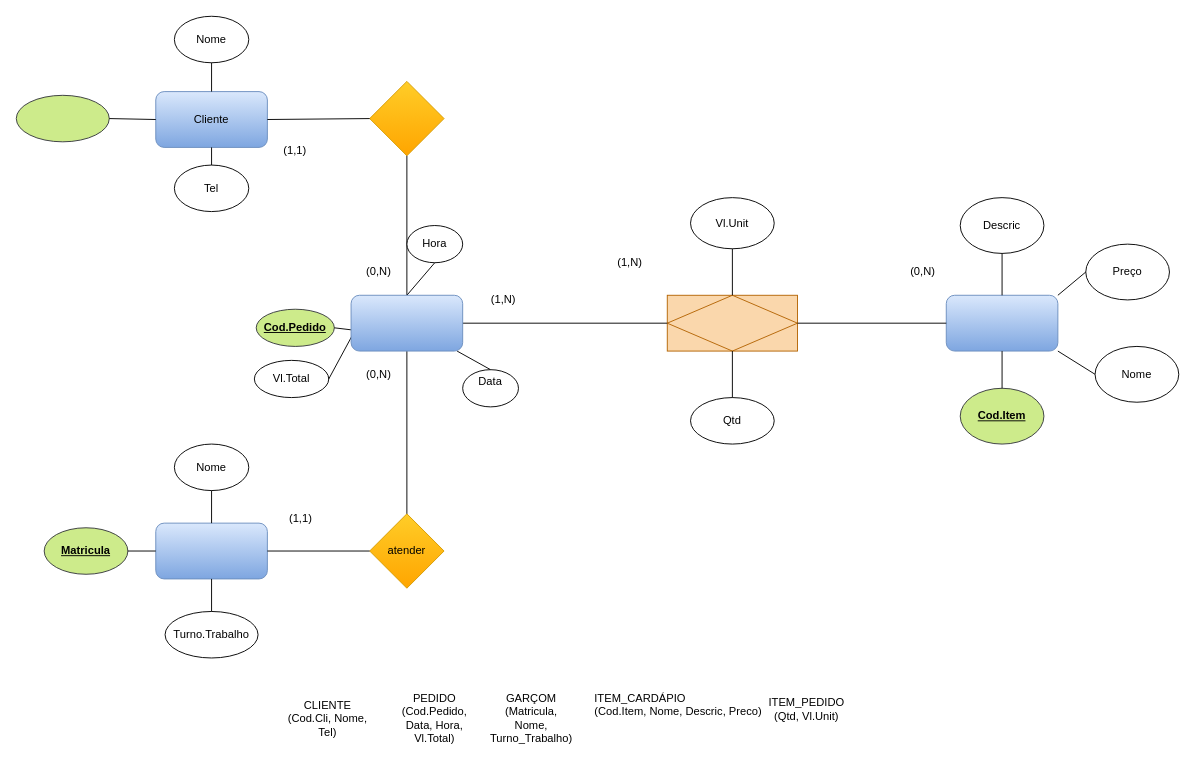
Image size: 1195x781. Some labels were removed from this diagram. The centre of each missing label's shape, as x and y in pixels:
Cod.Cli: the point at 62,118
Garçon: the point at 211,550
Item_cardapio: the point at 1001,322
Item_Pedido: the point at 731,322
Pedido: the point at 406,322
realizar: the point at 406,118
